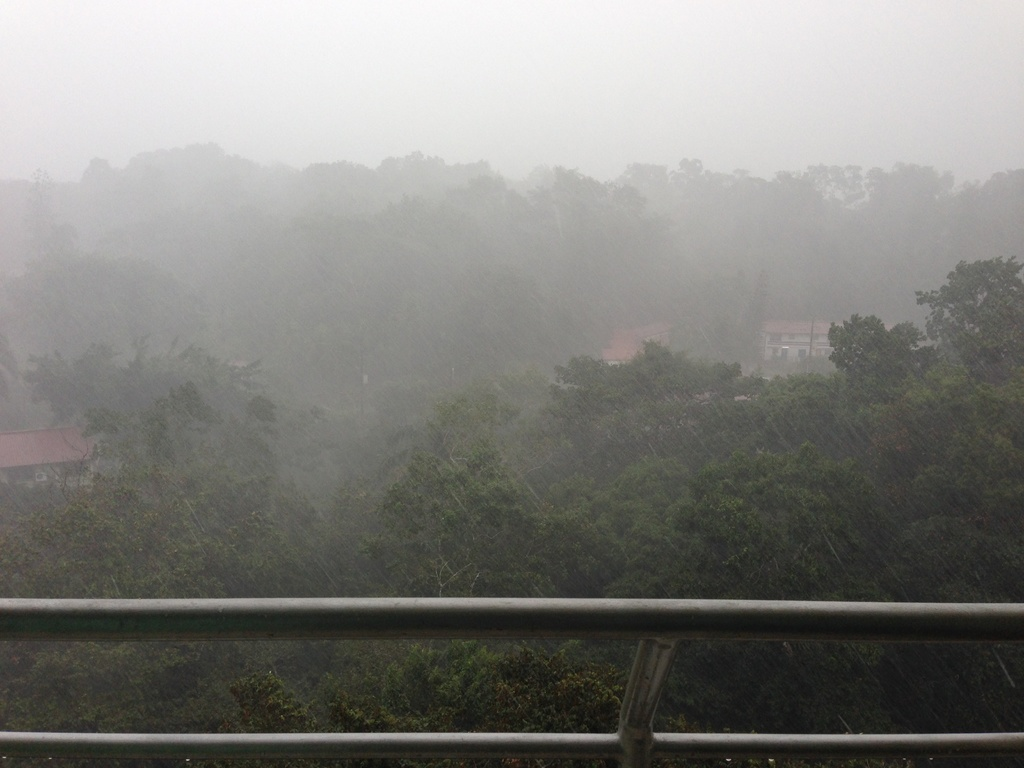Tree: (0, 144, 1024, 765)
